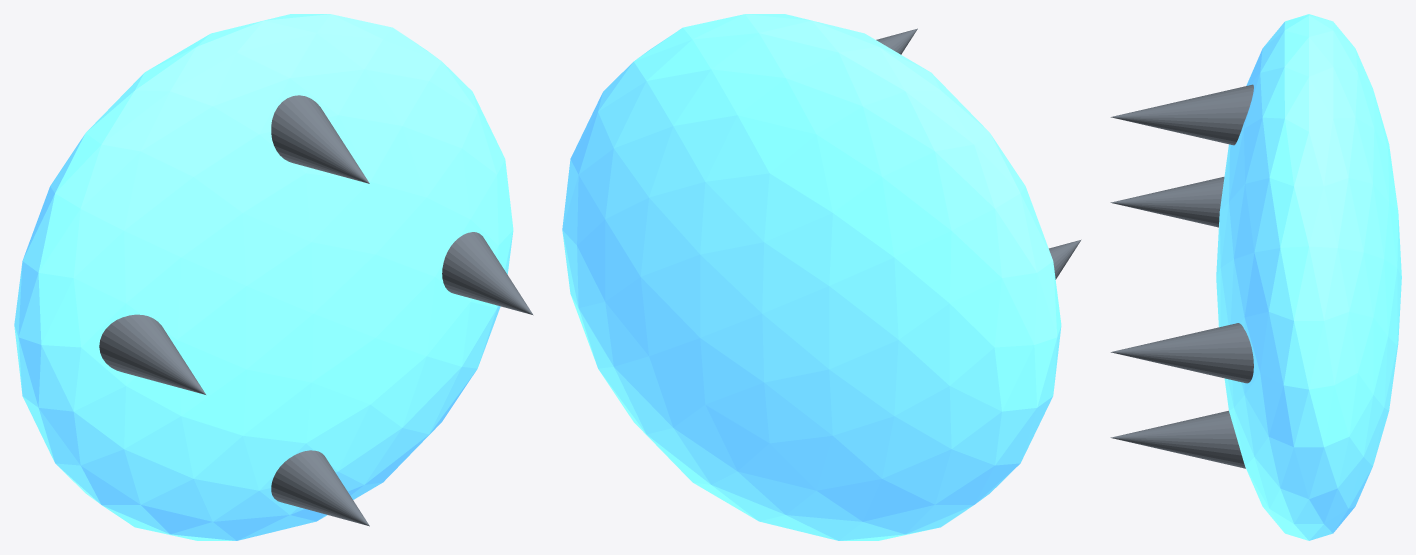
File: shield_04.glb
3 views of the same model, side by side, from view 1: azimuth 30°, elevation 25°; view 2: azimuth 150°, elevation 25°; view 3: azimuth 270°, elevation 25° (orthographic). The views are drawn at different scales.
Parts seen in each view (by area): view 1: prism_field, spike2, spike1, spike3, spike0; view 2: prism_field; view 3: prism_field, spike0, spike1, spike3, spike2.
Part boxes in pixels (x1,y1,x2,y2): prism_field: (14, 14, 513, 540); spike2: (99, 314, 205, 394); spike1: (271, 95, 369, 183); spike3: (271, 450, 369, 526); spike0: (442, 232, 533, 315); prism_field: (562, 14, 1061, 540); prism_field: (1216, 14, 1401, 540); spike0: (1110, 323, 1253, 383); spike1: (1110, 84, 1253, 145); spike3: (1110, 410, 1245, 468); spike2: (1110, 177, 1224, 227).
Bounding box in the file's own units: 2.4 × 2.4 × 1.32.
